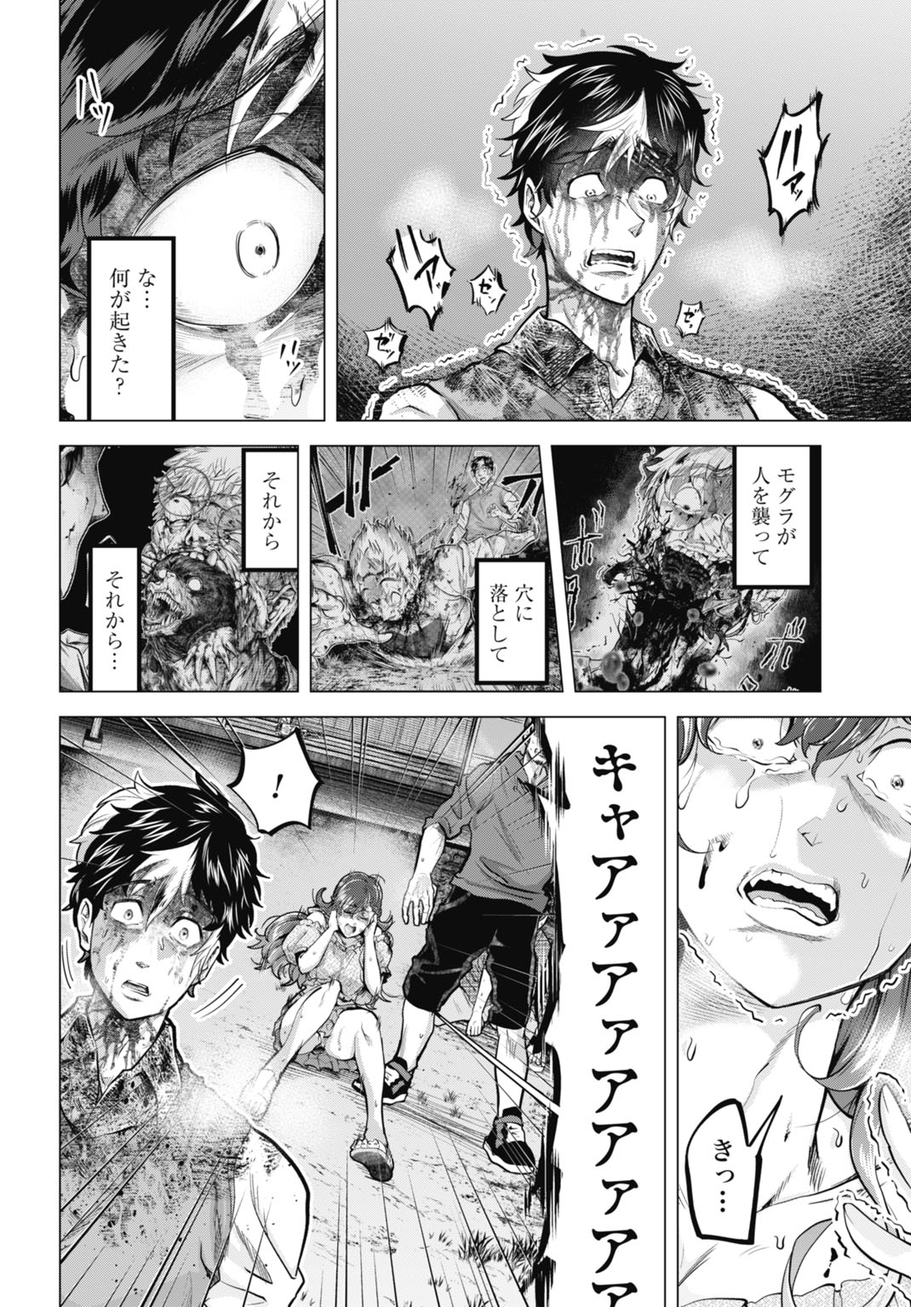bubbles: (532, 716, 663, 1307), (80, 233, 181, 423), (685, 1083, 789, 1251), (218, 723, 336, 846), (728, 447, 817, 595), (473, 555, 553, 688), (84, 543, 152, 691), (240, 443, 299, 574)
